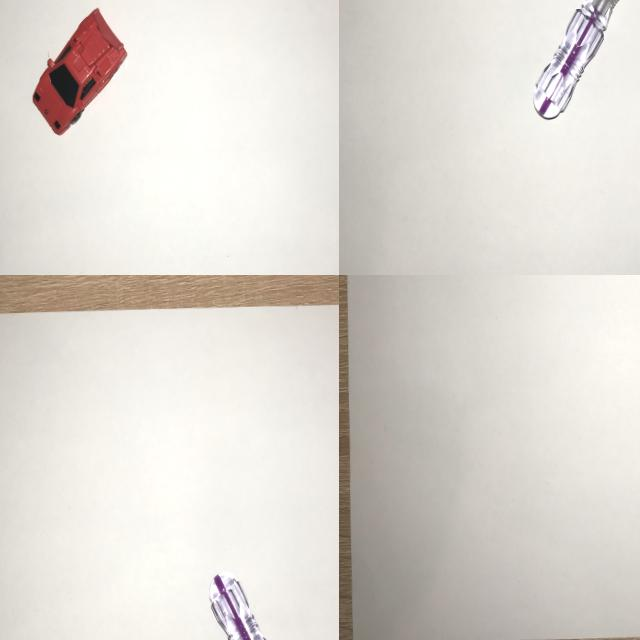car: (26, 0, 134, 142)
screwdriver: (522, 0, 640, 126), (203, 563, 325, 640)
